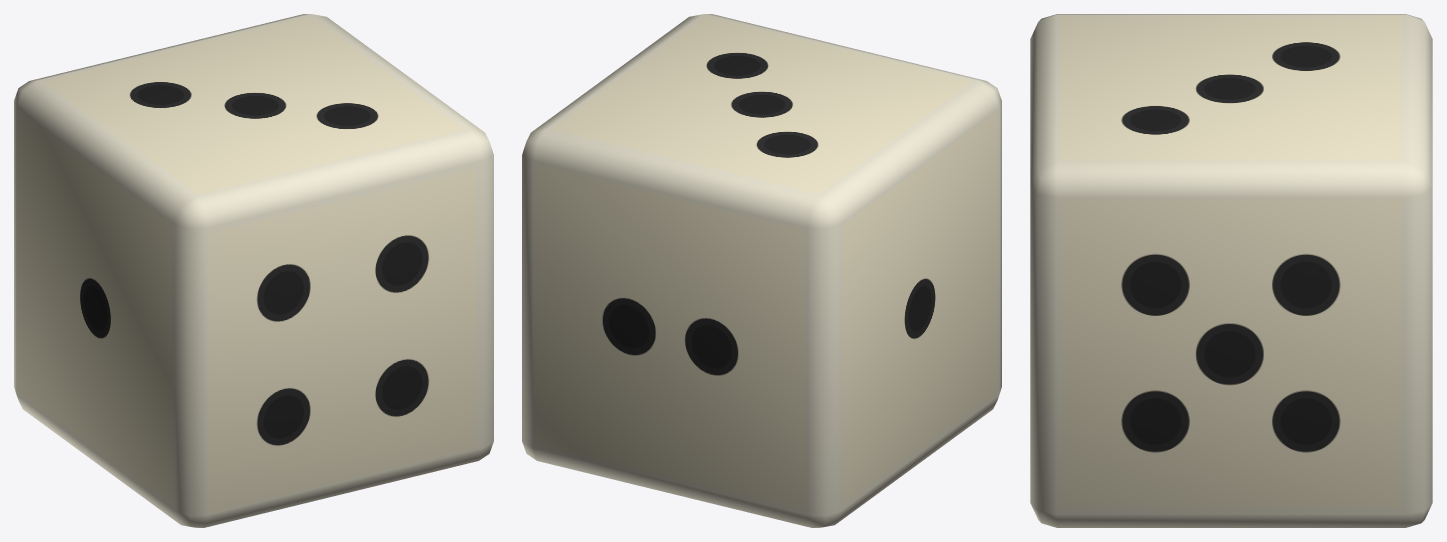
Rendered from dice.glb.
The picture shows the model from 3 angles, left to right: view 1: azimuth 30°, elevation 25°; view 2: azimuth 150°, elevation 25°; view 3: azimuth 270°, elevation 25°; orthographic projection. The views are drawn at different scales.
Visible parts, largest first — view 1: Cube; view 2: Cube; view 3: Cube.
Boxes of the visible parts, <box> form: Cube: <box>14,14,493,527</box>; Cube: <box>522,14,1001,527</box>; Cube: <box>1030,14,1432,527</box>.
Bounding box in the file's own units: 0.1122 × 0.1122 × 0.1122.
1 material, 1 textured.
